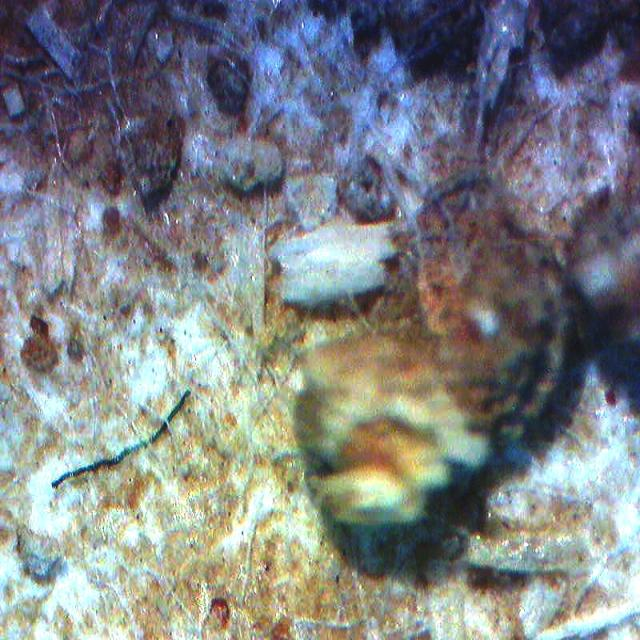microplastic: (45, 389, 203, 497)
